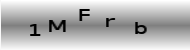1: (27, 23, 41, 37)
F: (78, 8, 91, 21)
M: (47, 19, 67, 34)
b: (133, 20, 149, 35)
r: (104, 16, 116, 28)
